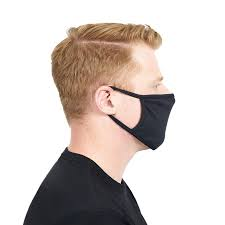with-mask: (57, 24, 179, 159)
